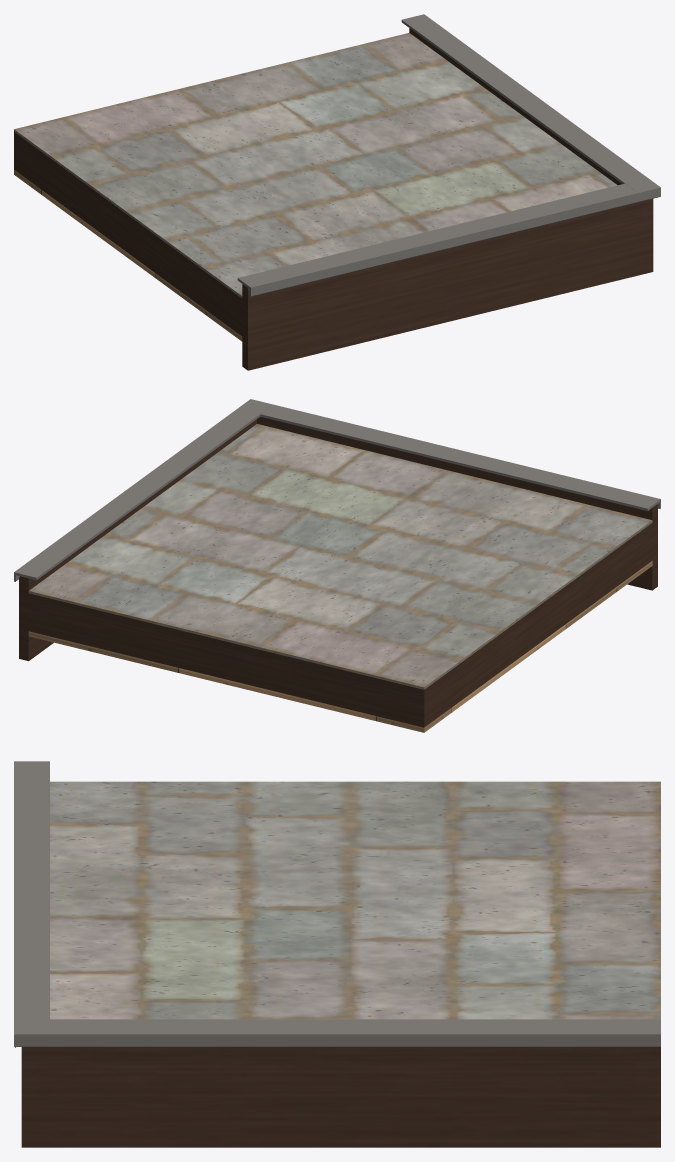
Rendered from cp_deck_e0101.glb.
3 views of the same model, one above another, from view 1: azimuth 30°, elevation 25°; view 2: azimuth 150°, elevation 25°; view 3: azimuth 270°, elevation 25° (orthographic). The views are drawn at different scales.
Visible parts, largest first — view 1: cp_deck_e0101_roofdeck, cp_deck_e0101_fascia, cp_deck_e0101_metal, cp_deck_e0101_ceiling; view 2: cp_deck_e0101_roofdeck, cp_deck_e0101_fascia, cp_deck_e0101_metal, cp_deck_e0101_ceiling; view 3: cp_deck_e0101_roofdeck, cp_deck_e0101_fascia, cp_deck_e0101_metal.
Boxes of the visible parts, x1=… form: cp_deck_e0101_roofdeck: x1=14, y1=33, x2=617, y2=298; cp_deck_e0101_fascia: x1=14, y1=28, x2=653, y2=370; cp_deck_e0101_metal: x1=237, y1=14, x2=660, y2=296; cp_deck_e0101_ceiling: x1=14, y1=170, x2=242, y2=341; cp_deck_e0101_roofdeck: x1=28, y1=424, x2=652, y2=689; cp_deck_e0101_fascia: x1=19, y1=416, x2=657, y2=727; cp_deck_e0101_metal: x1=14, y1=399, x2=660, y2=581; cp_deck_e0101_ceiling: x1=28, y1=561, x2=652, y2=732; cp_deck_e0101_roofdeck: x1=50, y1=781, x2=660, y2=1019; cp_deck_e0101_fascia: x1=21, y1=1047, x2=660, y2=1147; cp_deck_e0101_metal: x1=14, y1=761, x2=660, y2=1047.
Bounding box in the file's own units: 2.08 × 0.4125 × 2.08.
4 materials, 3 textured.
